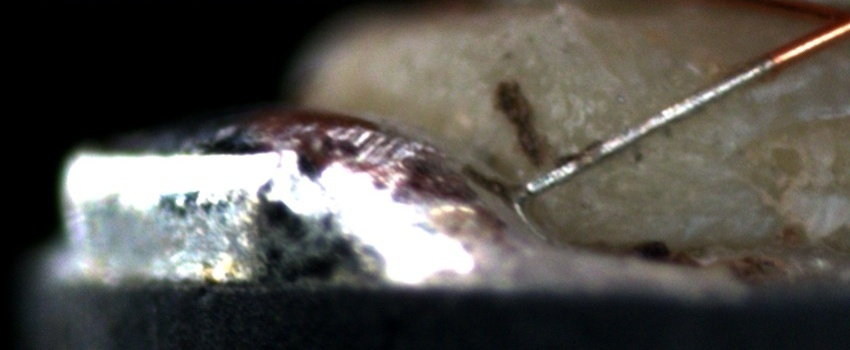TS: (518, 56, 776, 198)
